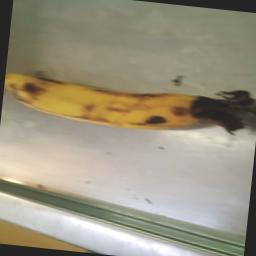Banana Overripe: (6, 58, 256, 154)
